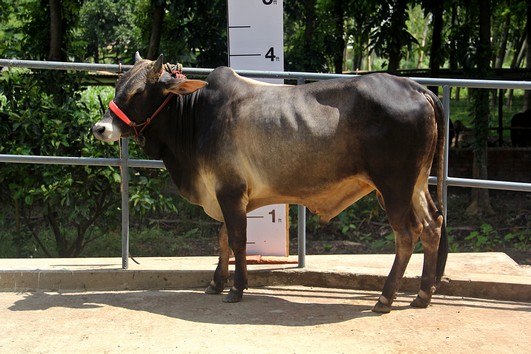cow: (91, 45, 458, 319)
